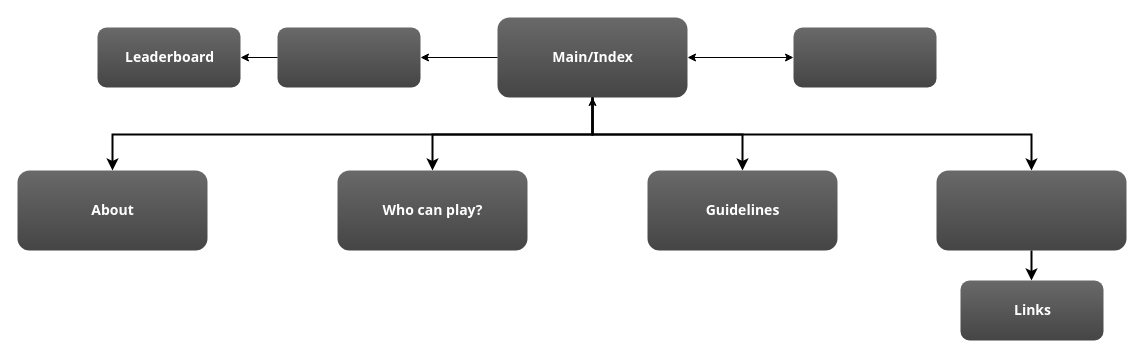
This 1143x357 diagram has some shape labels left out. The shapes that lost their labels are listed below. From the top down, each one's box as (x1, y1, x2, y2) in pixels, then its label:
(277, 27, 420, 87): Announcements
(793, 27, 936, 87): Sign Up
(936, 170, 1126, 250): Contact
